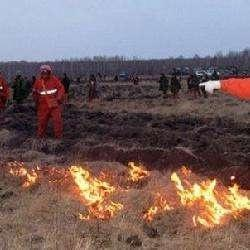fire: (9, 151, 244, 234)
